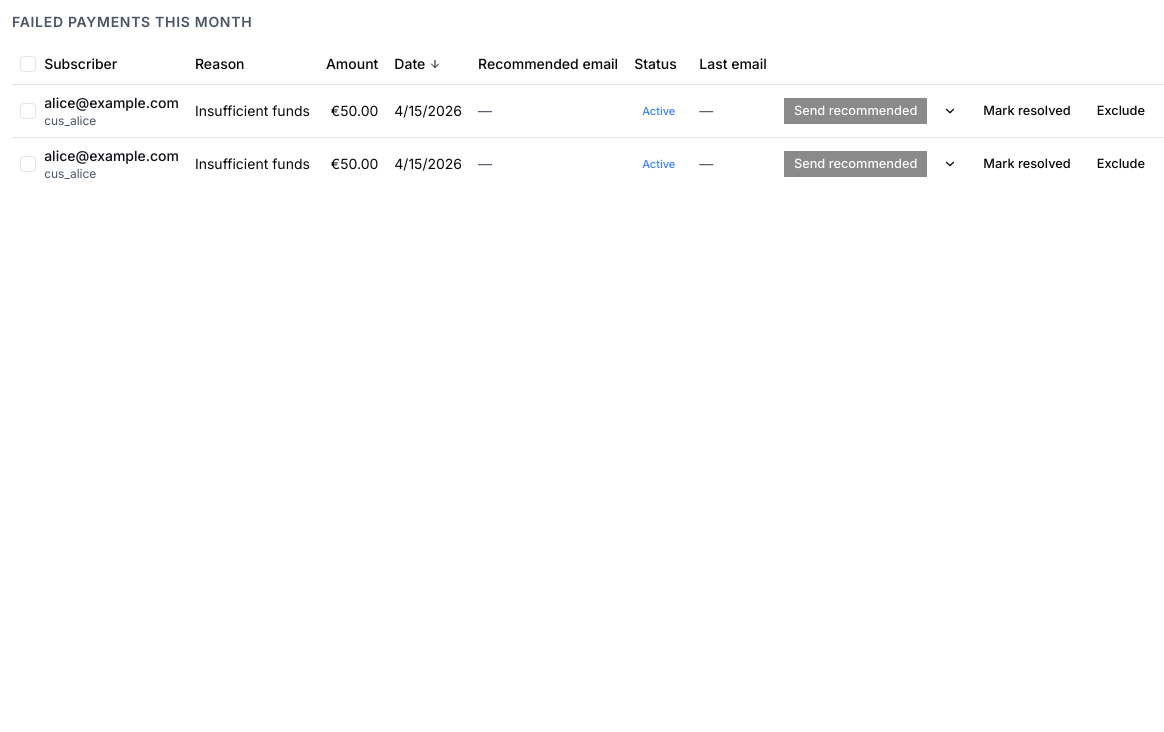
Test case: FailedPaymentsList › sort change clears stale selectedIds (toolbar disappears when refetch drops the row)
This screenshot has width=1164, height=732.
Step 1. Click the checkbox named "Select all visible rows" → x=28, y=64, box [20,56,36,72]
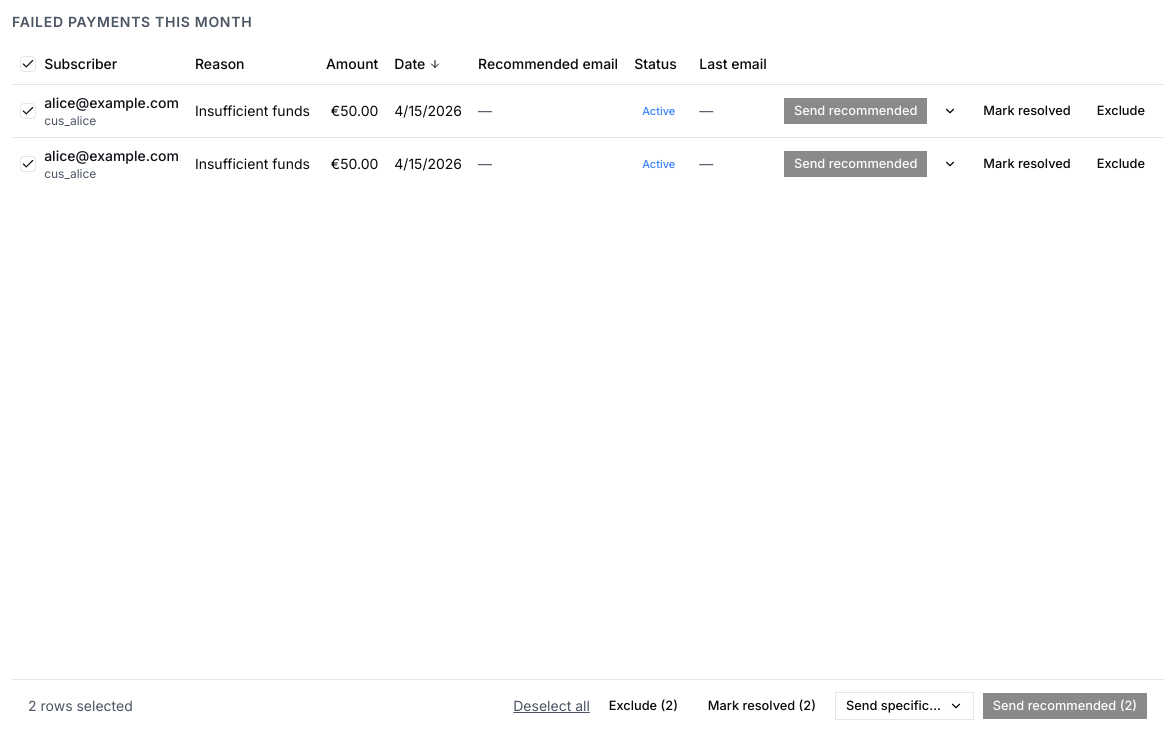
Expected: the element named "Bulk actions" is shown, [12,679,1163,731]
